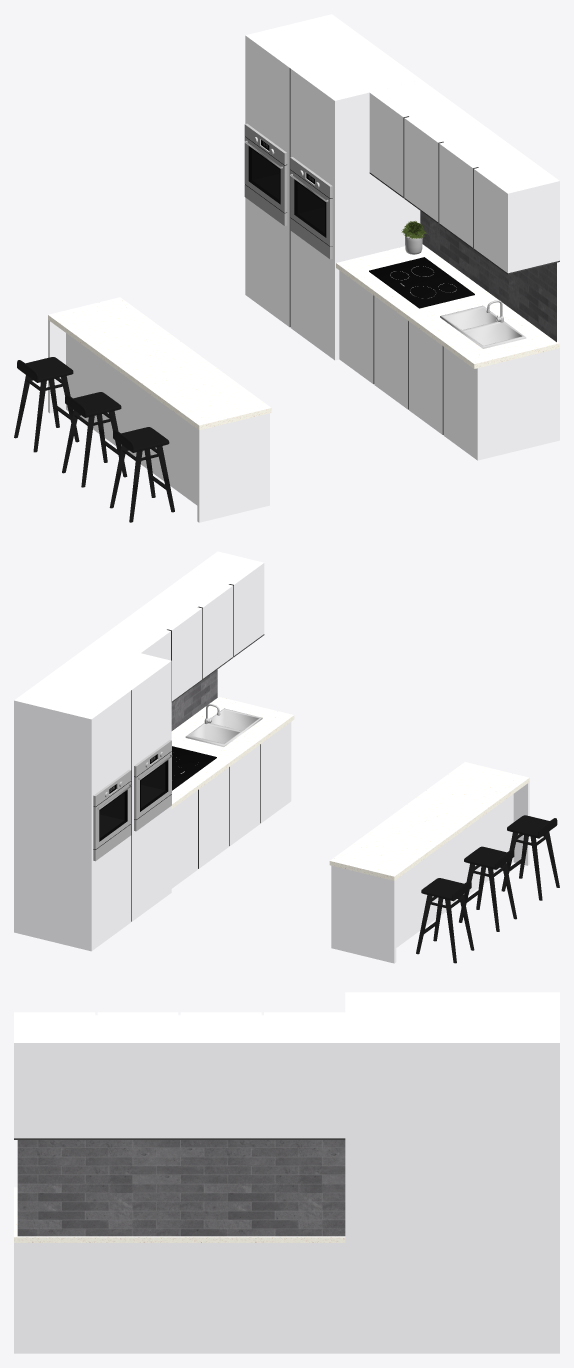
Rendered from kitchen_wet.glb.
3 views of the same model, one above another, from view 1: azimuth 30°, elevation 25°; view 2: azimuth 150°, elevation 25°; view 3: azimuth 270°, elevation 25° (orthographic). The views are drawn at different scales.
Visible parts, largest first — view 1: Cupboards, Counters, Stools, Ovens, Tiles, Hob, Sink, Trim; view 2: Cupboards, Counters, Stools, Ovens, Sink, Tiles, Hob, Trim; view 3: Cupboards, Tiles, Counters, Trim.
Boxes of the visible parts, bbox=[...] form: Cupboards: bbox=[48, 14, 559, 522]; Counters: bbox=[48, 244, 559, 430]; Stools: bbox=[14, 357, 174, 522]; Ovens: bbox=[244, 123, 332, 259]; Tiles: bbox=[420, 211, 556, 341]; Hob: bbox=[369, 257, 474, 308]; Sink: bbox=[440, 300, 526, 348]; Trim: bbox=[289, 68, 559, 434]; Cupboards: bbox=[14, 551, 529, 963]; Counters: bbox=[171, 696, 529, 880]; Stools: bbox=[416, 815, 559, 963]; Ovens: bbox=[93, 740, 172, 861]; Sink: bbox=[185, 704, 262, 746]; Tiles: bbox=[171, 669, 217, 730]; Hob: bbox=[172, 746, 216, 790]; Trim: bbox=[131, 584, 264, 921]; Cupboards: bbox=[14, 992, 559, 1353]; Tiles: bbox=[17, 1140, 345, 1236]; Counters: bbox=[14, 1187, 345, 1242]; Trim: bbox=[14, 1138, 345, 1139].
Bounding box in the file's own units: 9.08 × 5.54 × 8.82.
Materials: 15 (6 with a texture image).
